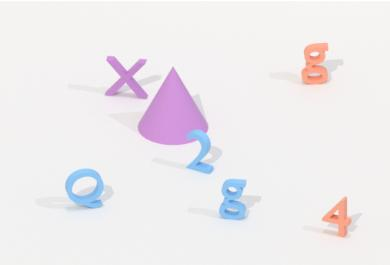0-TamGiac: (135, 64, 213, 148)
2: (179, 126, 218, 178)
4: (317, 192, 353, 241)
Q: (63, 163, 105, 210)
X: (100, 50, 150, 103)
g: (297, 36, 335, 90), (215, 174, 250, 225)
